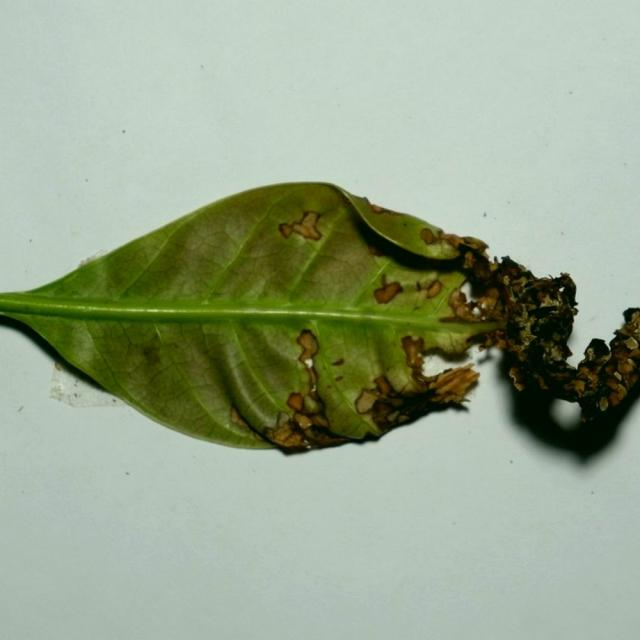Anthracnose: (361, 334, 480, 431), (287, 328, 332, 433), (374, 272, 440, 305), (419, 226, 482, 260), (575, 342, 613, 388), (445, 286, 491, 323), (365, 391, 407, 429), (278, 210, 324, 241), (425, 341, 477, 363), (614, 312, 640, 348), (554, 271, 578, 306), (498, 254, 527, 281), (354, 388, 381, 415), (525, 304, 560, 323), (476, 331, 506, 353), (528, 342, 551, 367), (229, 405, 250, 431), (581, 398, 603, 420), (515, 328, 538, 349), (369, 203, 403, 217), (142, 345, 162, 367), (374, 375, 393, 396), (620, 365, 638, 387), (552, 343, 573, 361), (622, 306, 640, 324), (419, 228, 437, 245), (278, 222, 294, 239), (532, 373, 548, 390), (276, 411, 291, 428), (536, 289, 551, 304), (367, 243, 383, 256), (552, 330, 566, 342), (585, 347, 594, 359), (331, 358, 344, 366), (380, 274, 387, 286), (54, 361, 62, 371)
Mango: (0, 183, 639, 458)
